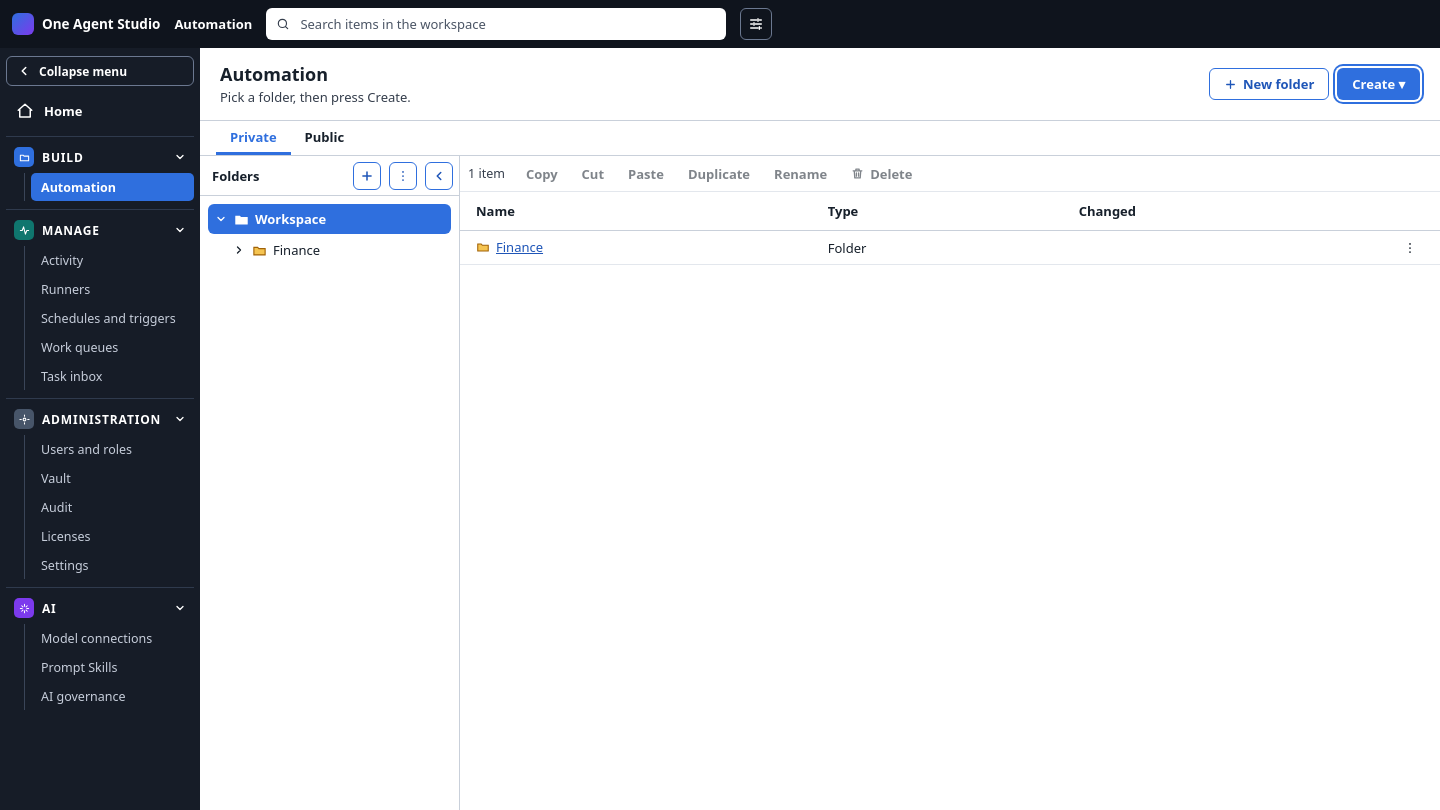
Test case: new Studio › opens a newly created form in its editor
The width and height of the screenshot is (1440, 810).
Press ArrowDown in the button "Create ▾", box x1=1337 y1=68 x2=1420 y2=100
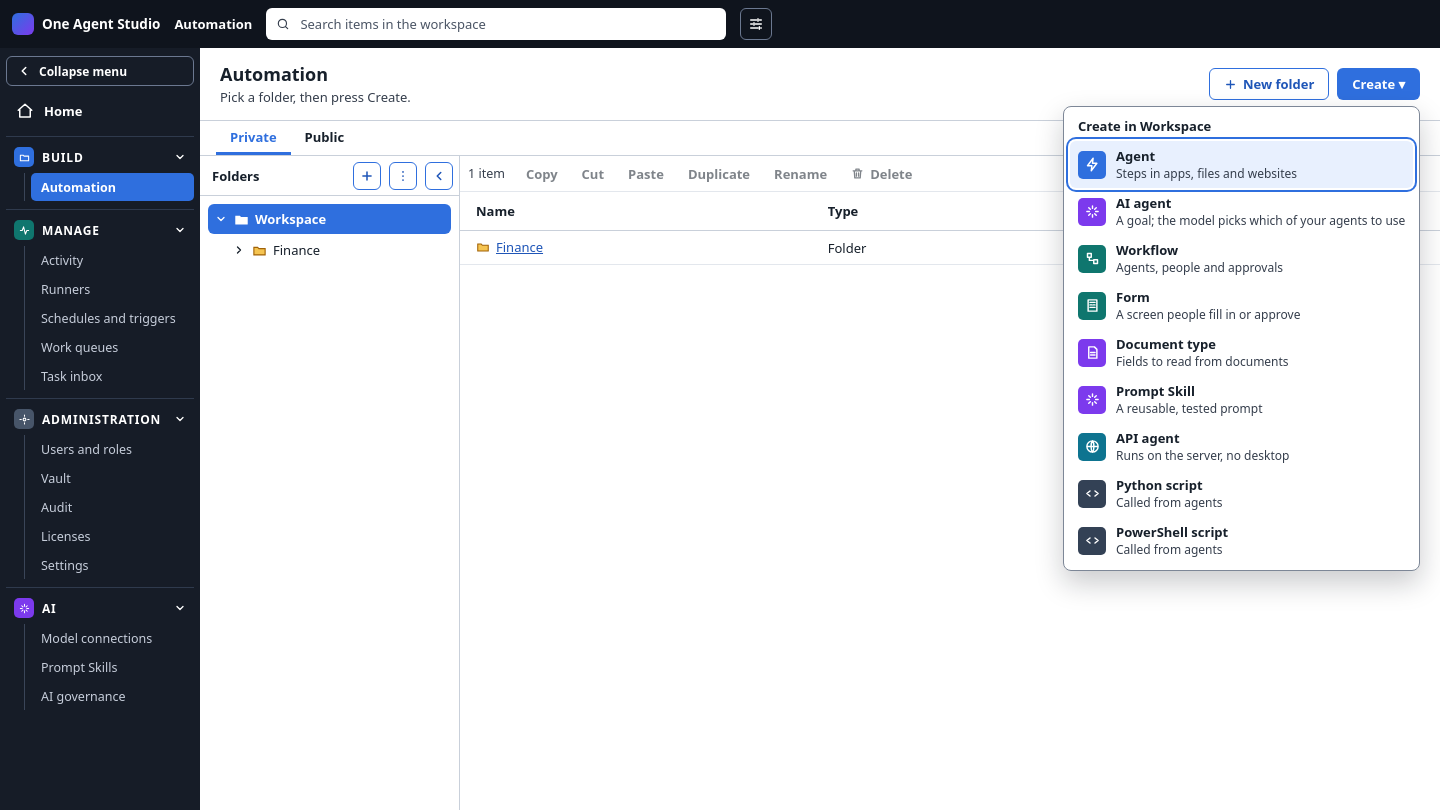
Click the menu item with aria-label "Form," at (1189, 306), box x1=1078 y1=288 x2=1300 y2=323
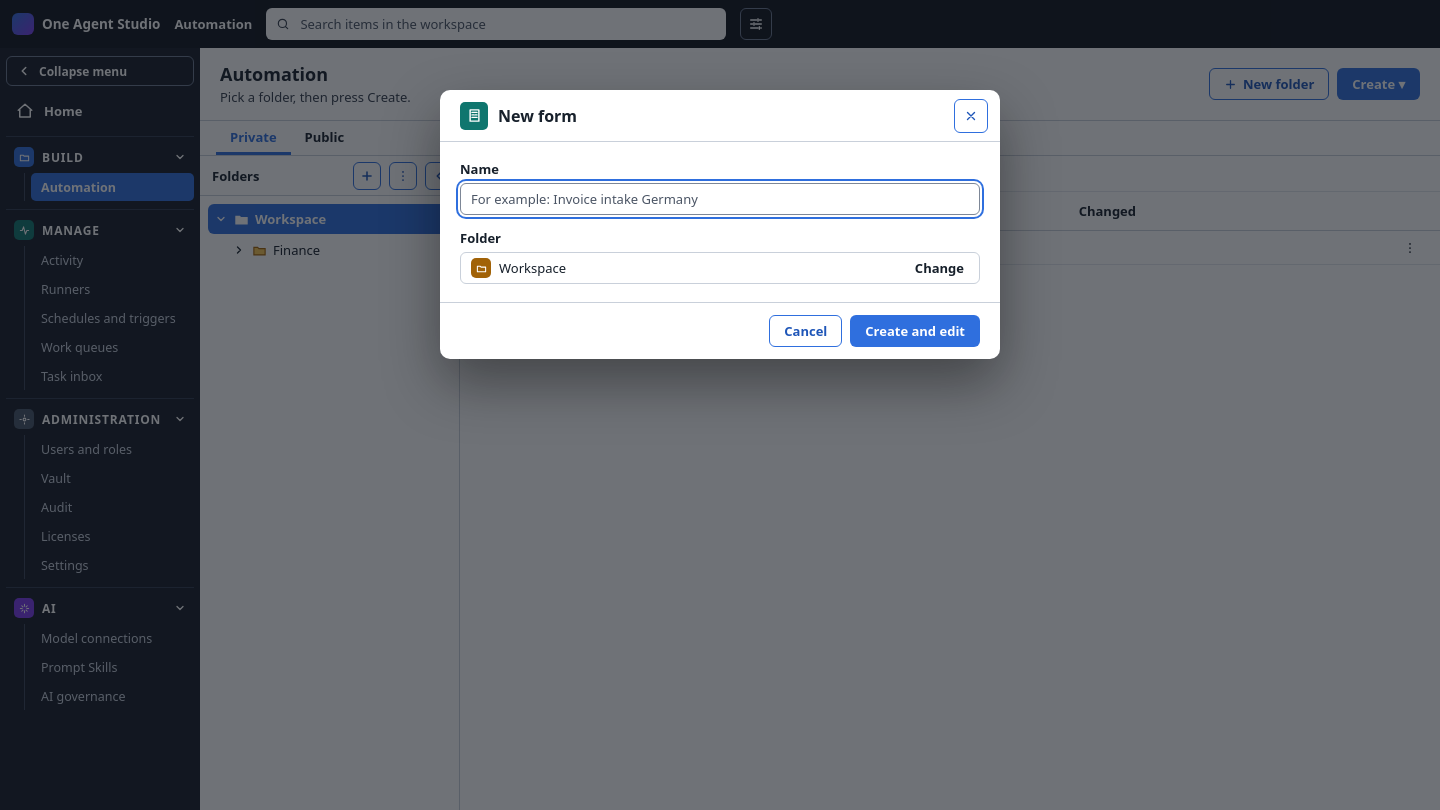
Type "Invoice check" into the field labelled "Name" at (720, 199), box x1=460 y1=183 x2=980 y2=215
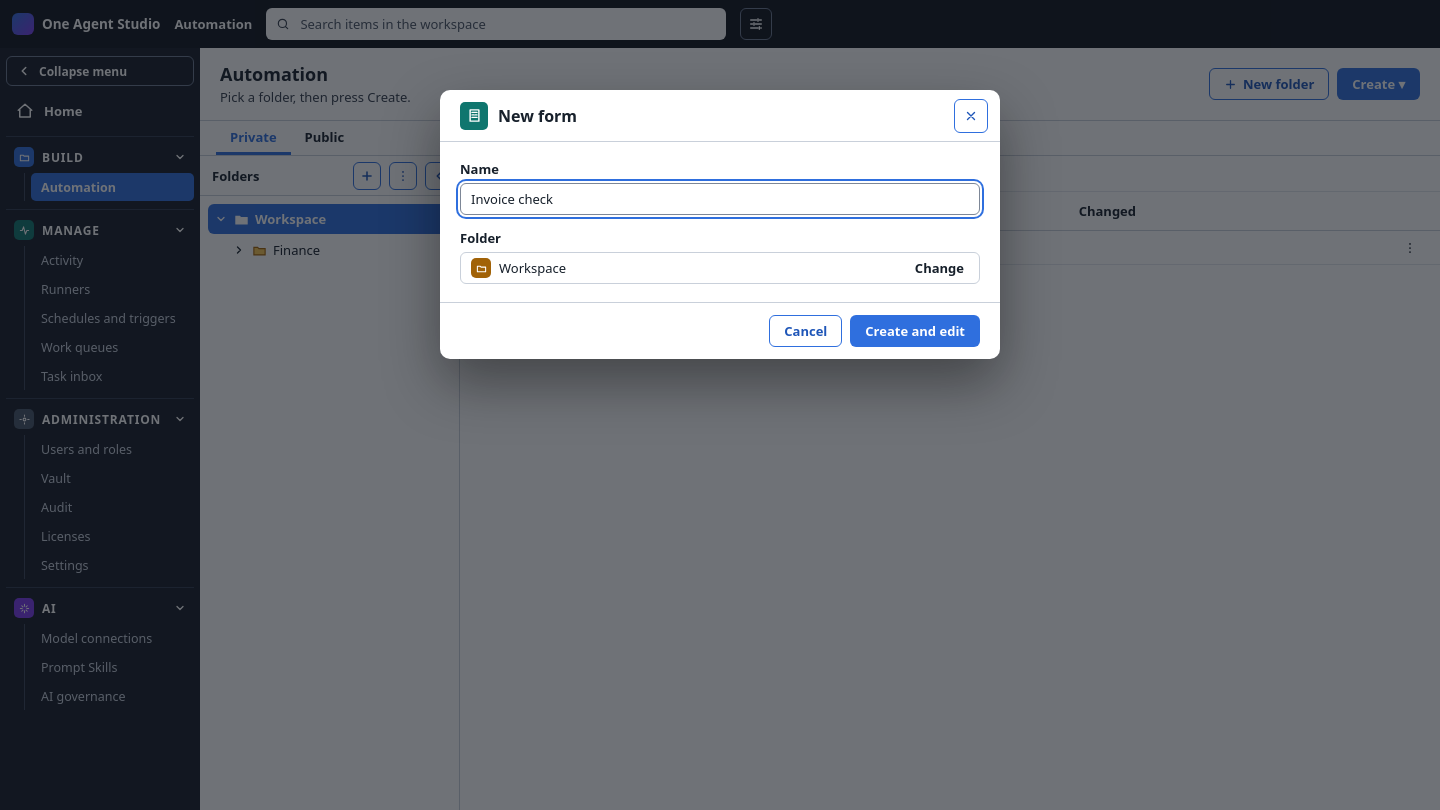
Click the button "Create and edit" at (915, 331), box x1=850 y1=315 x2=980 y2=347
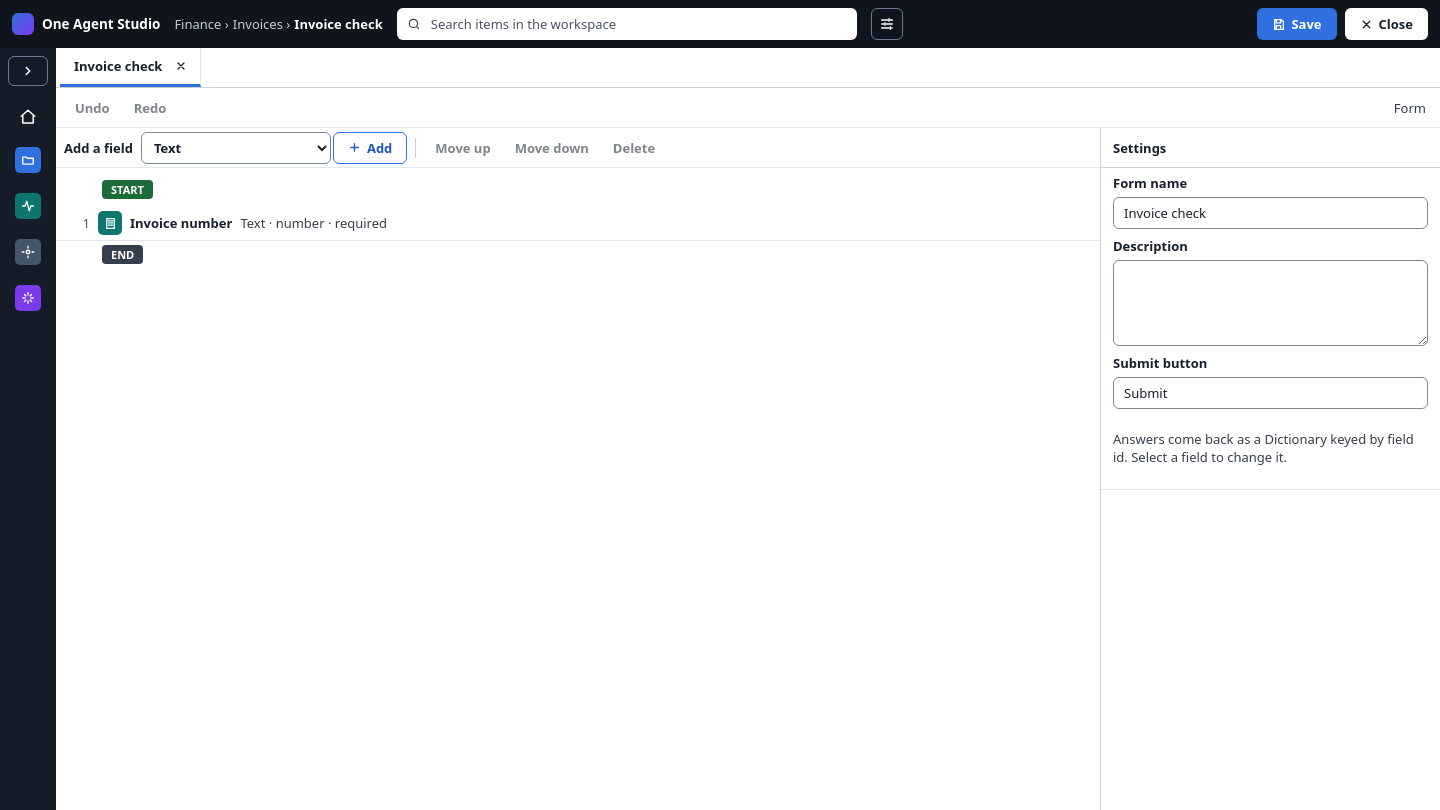
Check: the element named "Form fields" is shown, box x1=56 y1=128 x2=1100 y2=264
